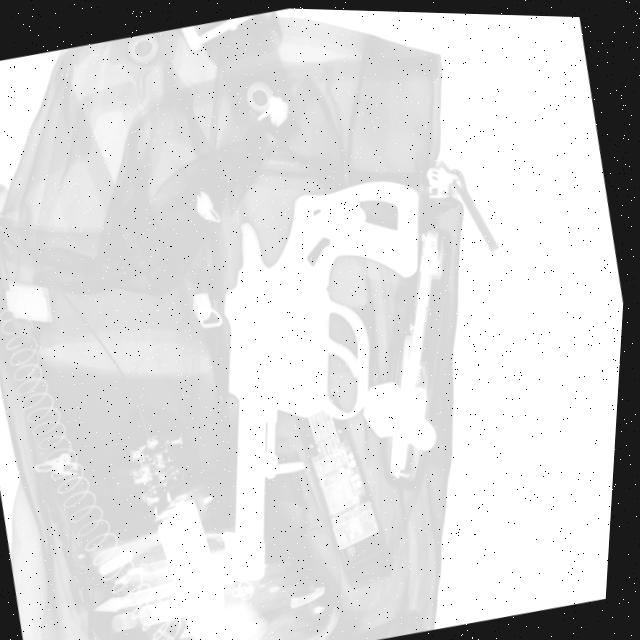pistol: (155, 162, 496, 592)
